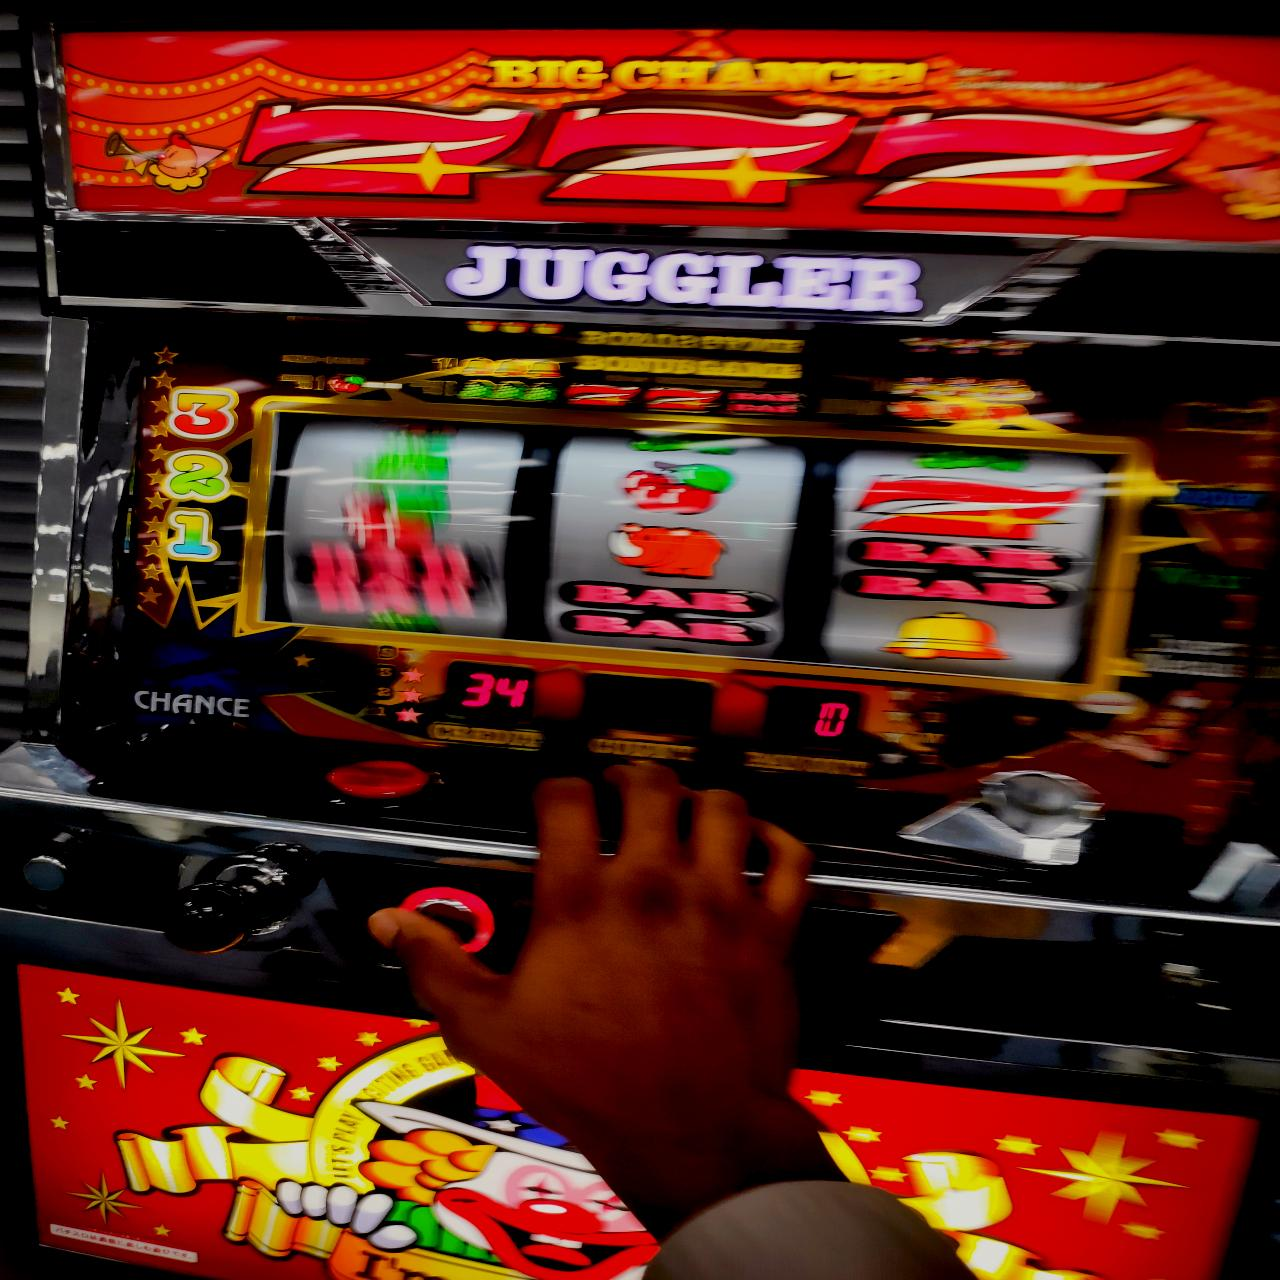7: (855, 475, 1080, 539)
8: (601, 519, 733, 578)
bar: (846, 536, 1078, 612), (560, 580, 775, 652)
bell: (874, 613, 1006, 668)
cherry: (614, 459, 735, 510)
rhino: (258, 414, 1128, 683)
